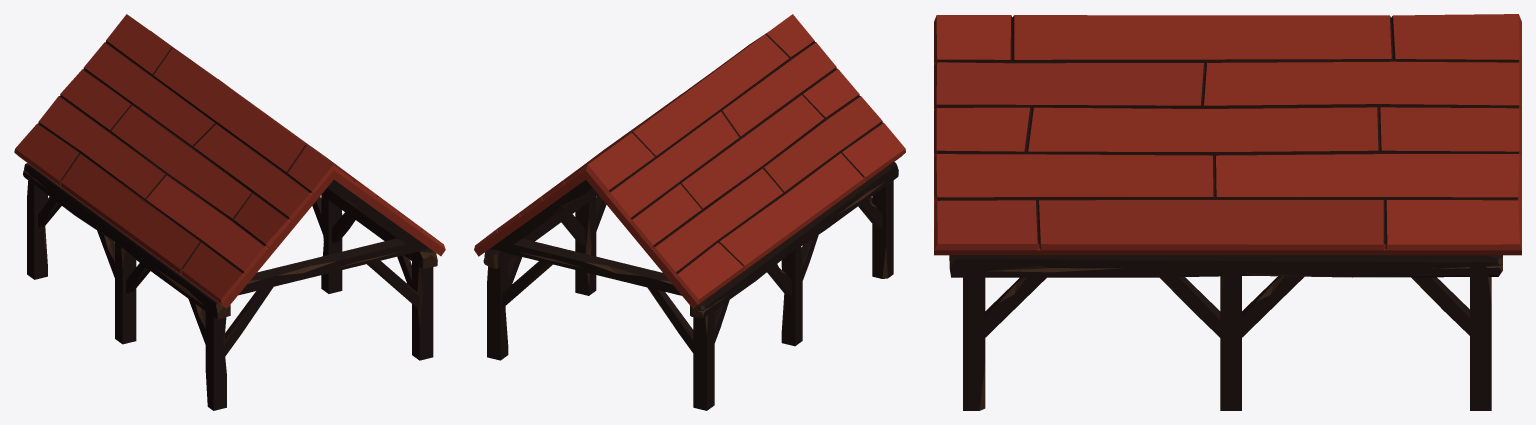
The model's file is Shed2_1.fbx.
3 renders of one model, left to right at view 1: azimuth 30°, elevation 25°; view 2: azimuth 150°, elevation 25°; view 3: azimuth 270°, elevation 25°, orthographic. The views are drawn at different scales.
Parts seen in each view (by area): view 1: Shed2_1; view 2: Shed2_1; view 3: Shed2_1.
Part boxes in pixels (x1=…): Shed2_1: x1=14, y1=14, x2=445, y2=410; Shed2_1: x1=474, y1=14, x2=905, y2=410; Shed2_1: x1=934, y1=14, x2=1521, y2=410.
Size of the model in its own units: 123 by 119 by 197.
